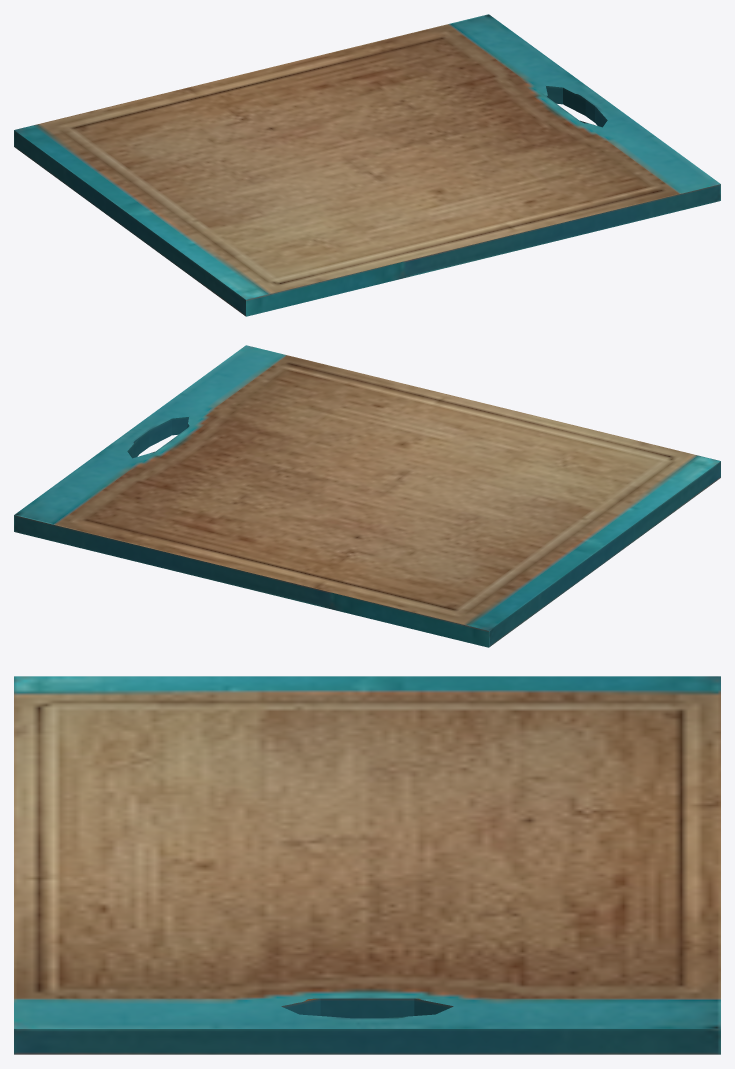
The model's file is CuttingBoard01.obj.
The picture shows the model from 3 angles, top to bottom: view 1: azimuth 30°, elevation 25°; view 2: azimuth 150°, elevation 25°; view 3: azimuth 270°, elevation 25°; orthographic projection. The views are drawn at different scales.
Visible parts, largest first — view 1: CuttingBoard01; view 2: CuttingBoard01; view 3: CuttingBoard01.
Boxes of the visible parts, bbox=[...] form: CuttingBoard01: bbox=[14, 14, 720, 316]; CuttingBoard01: bbox=[14, 345, 720, 647]; CuttingBoard01: bbox=[14, 676, 720, 1054].
Bounding box in the file's own units: 1.48 × 0.05 × 1.25.
